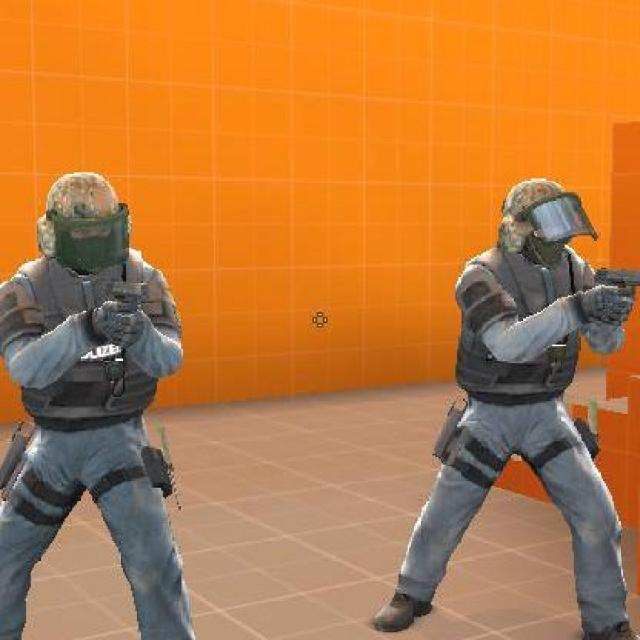CT: (376, 178, 638, 638), (0, 170, 228, 638)
CT_HEAD: (34, 168, 136, 284), (496, 174, 582, 276)
